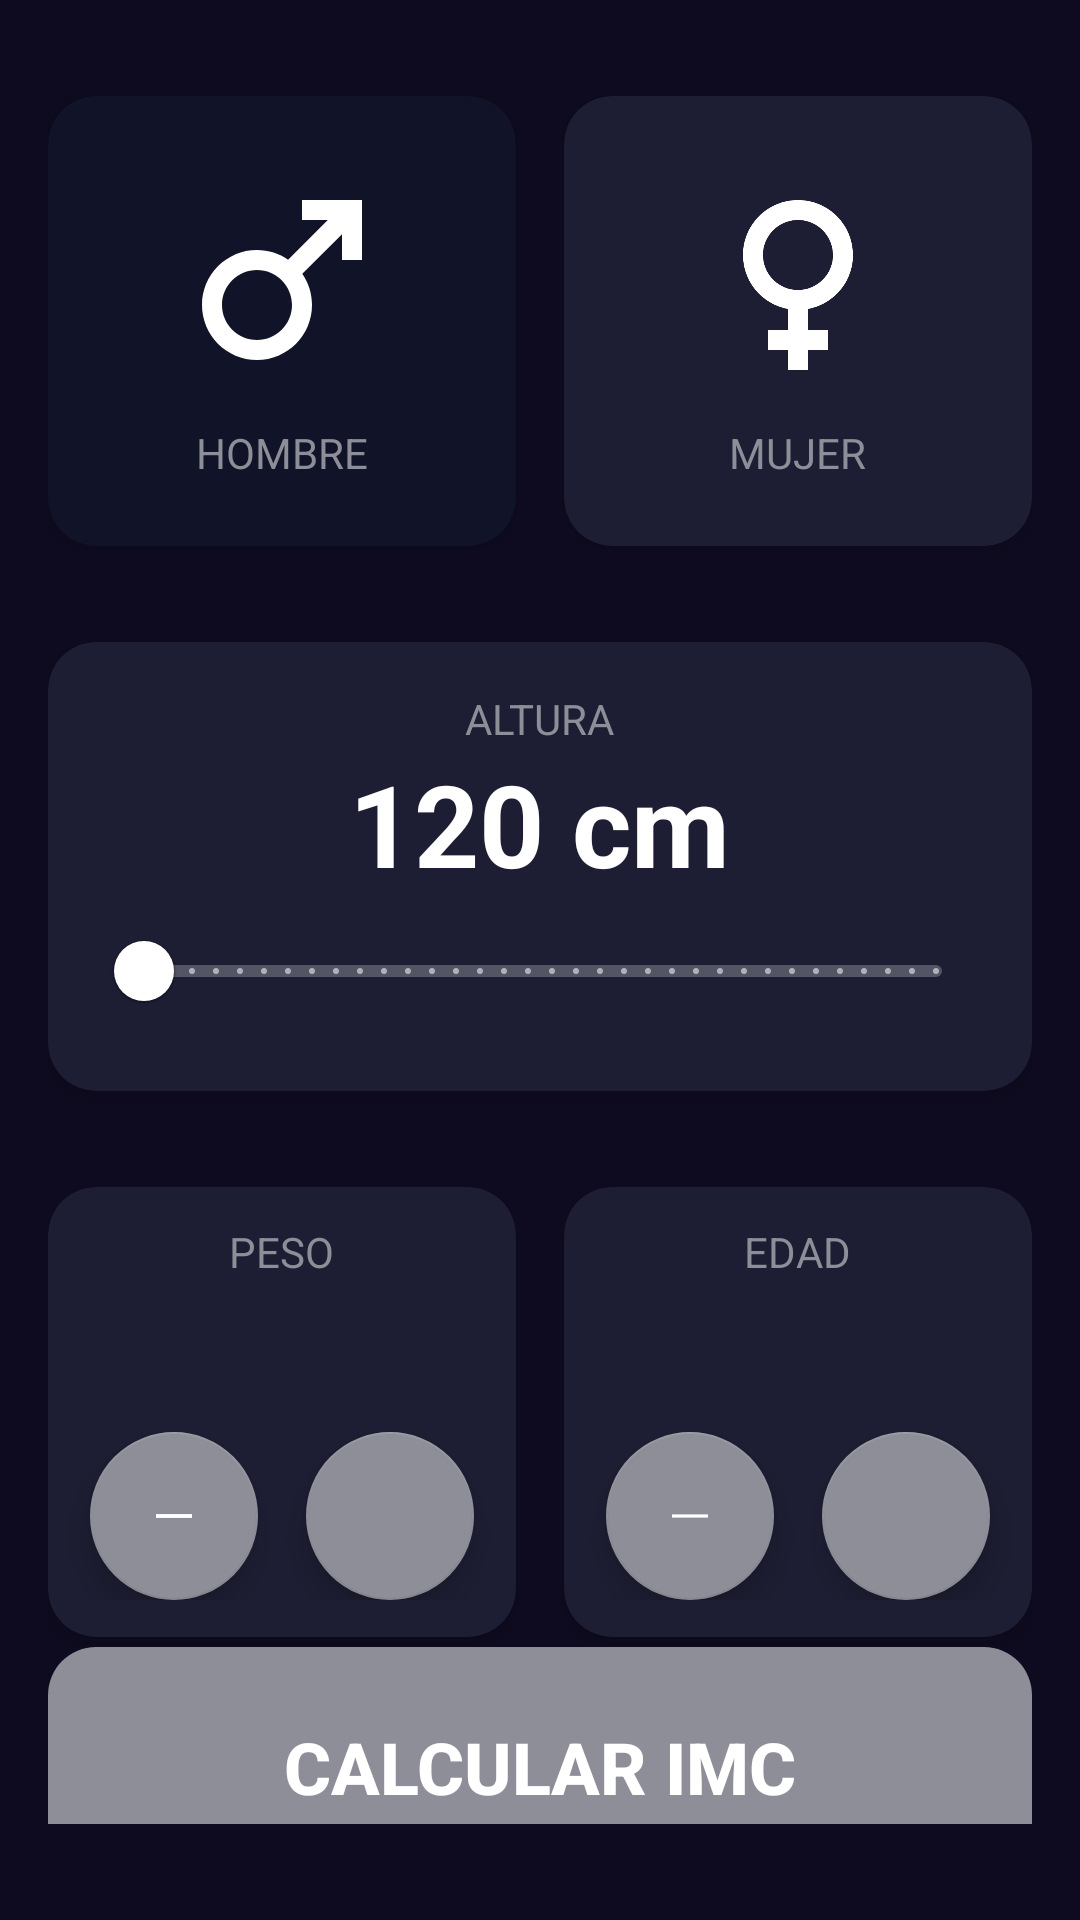

Point at icon controls on the screen. Image size 1080x1920, points as (x=x, y=y).
female: (x=798, y=285)
male: (x=282, y=280)
substraction: (x=174, y=1516), (x=690, y=1516)
